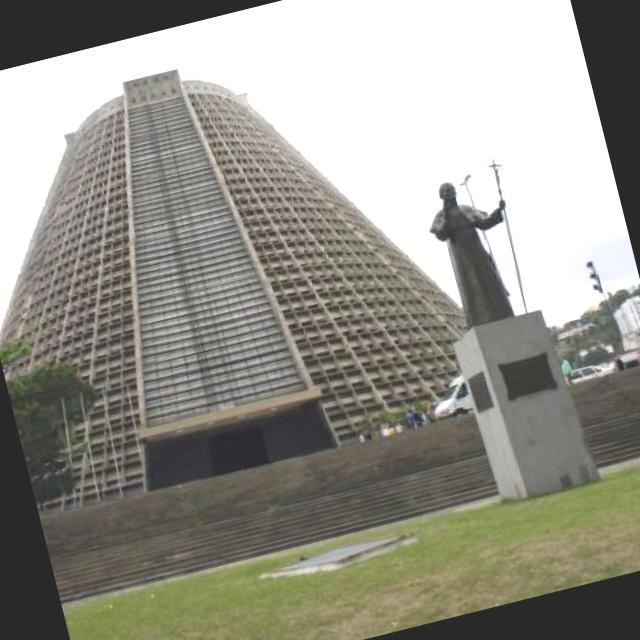Person: (412, 145, 542, 353)
